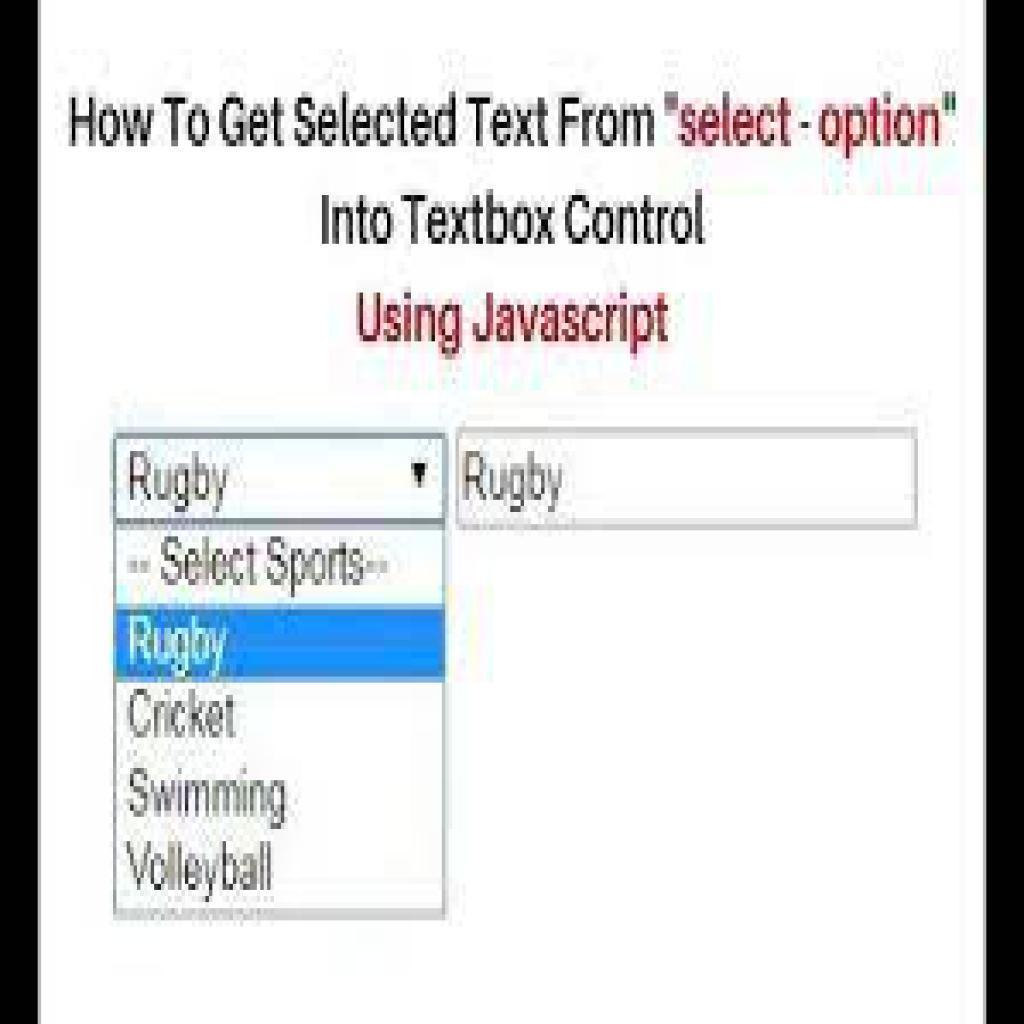dropdown: (114, 431, 449, 527)
input: (454, 429, 916, 527)
